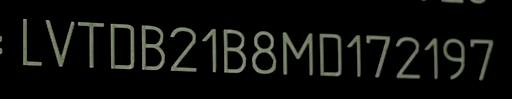letter: (278, 29, 316, 78), (42, 16, 76, 69), (166, 24, 200, 75), (76, 18, 106, 71), (107, 21, 137, 72), (394, 34, 426, 81), (315, 30, 345, 79), (363, 30, 393, 79), (138, 23, 166, 74), (250, 28, 280, 75), (467, 34, 497, 81), (18, 15, 44, 68), (222, 27, 248, 76), (441, 36, 467, 81), (200, 26, 220, 75), (345, 31, 365, 80), (423, 33, 443, 82)
